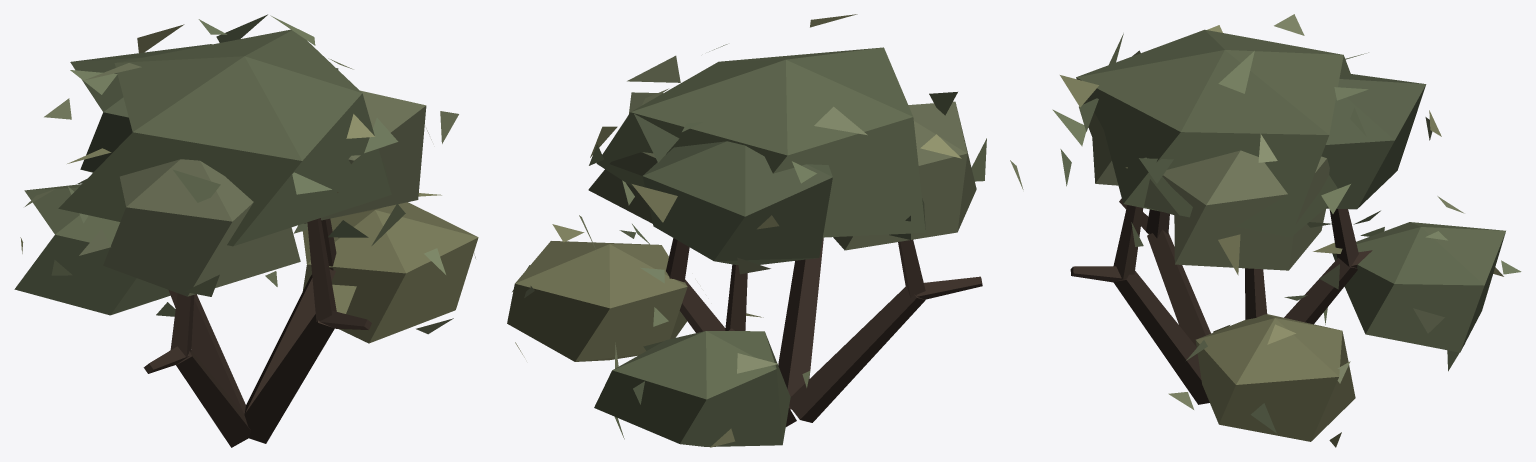
File: mesquite-lite.glb
3 renders of one model, left to right at view 1: azimuth 30°, elevation 25°; view 2: azimuth 150°, elevation 25°; view 3: azimuth 270°, elevation 25°, orthographic. The views are drawn at different scales.
Visible parts, largest first — view 1: mesquite-lite / foliage-core, mesquite-lite / wood, mesquite-lite / foliage; view 2: mesquite-lite / foliage-core, mesquite-lite / wood, mesquite-lite / foliage; view 3: mesquite-lite / foliage-core, mesquite-lite / wood, mesquite-lite / foliage.
Part boxes in pixels (x1,y1,x2,y2): mesquite-lite / foliage-core: [14, 29, 478, 343]; mesquite-lite / wood: [143, 218, 371, 447]; mesquite-lite / foliage: [20, 14, 475, 334]; mesquite-lite / foliage-core: [507, 47, 976, 446]; mesquite-lite / wood: [666, 237, 982, 426]; mesquite-lite / foliage: [512, 14, 1023, 447]; mesquite-lite / foliage-core: [1076, 29, 1505, 441]; mesquite-lite / wood: [1070, 198, 1372, 404]; mesquite-lite / foliage: [1052, 14, 1521, 447].
Bounding box in the file's own units: 4.59 × 3.77 × 4.31.
